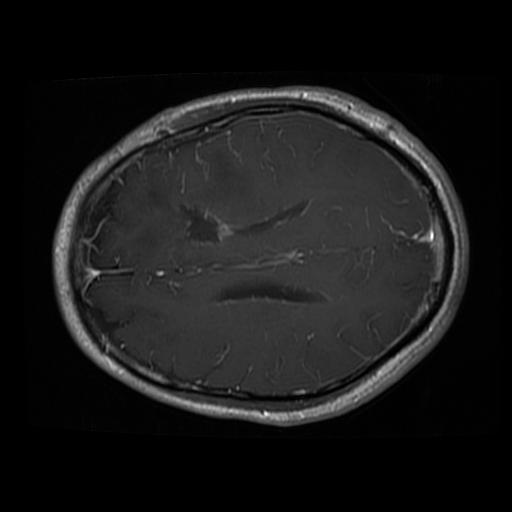glioma: (107, 140, 246, 265)
